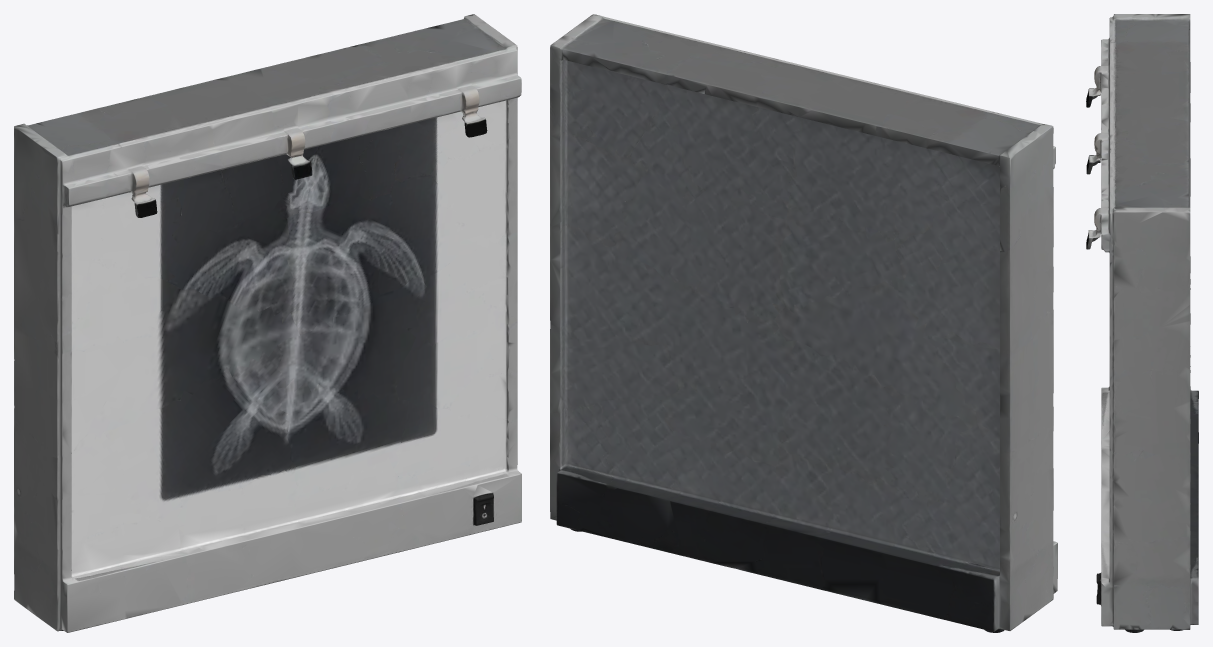
The model's file is 11-01-xray-light-box.glb.
3 views of the same model, side by side, from view 1: azimuth 30°, elevation 25°; view 2: azimuth 150°, elevation 25°; view 3: azimuth 270°, elevation 25° (orthographic). The views are drawn at different scales.
Size of the model in its own units: 1.9 by 1.9 by 0.4564.
Materials: 1 (1 with a texture image).
